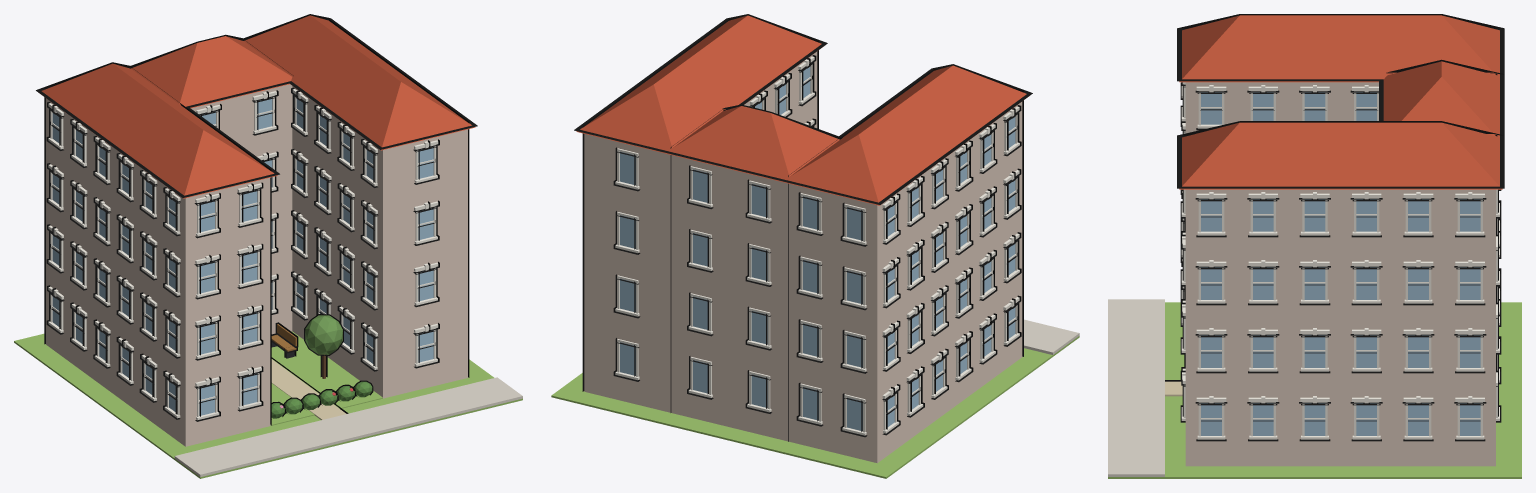
File: Konut_avlulu_blok_1.fbx
3 views of the same model, side by side, from view 1: azimuth 30°, elevation 25°; view 2: azimuth 150°, elevation 25°; view 3: azimuth 270°, elevation 25° (orthographic). The views are drawn at different scales.
Parts seen in each view (by area): view 1: Konut_avlulu_blok_1; view 2: Konut_avlulu_blok_1; view 3: Konut_avlulu_blok_1.
Part boxes in pixels (<box>): Konut_avlulu_blok_1: <box>14,14,522,478</box>; Konut_avlulu_blok_1: <box>551,14,1079,478</box>; Konut_avlulu_blok_1: <box>1108,14,1521,478</box>.
Size of the model in its own units: 16 by 13.81 by 16.
